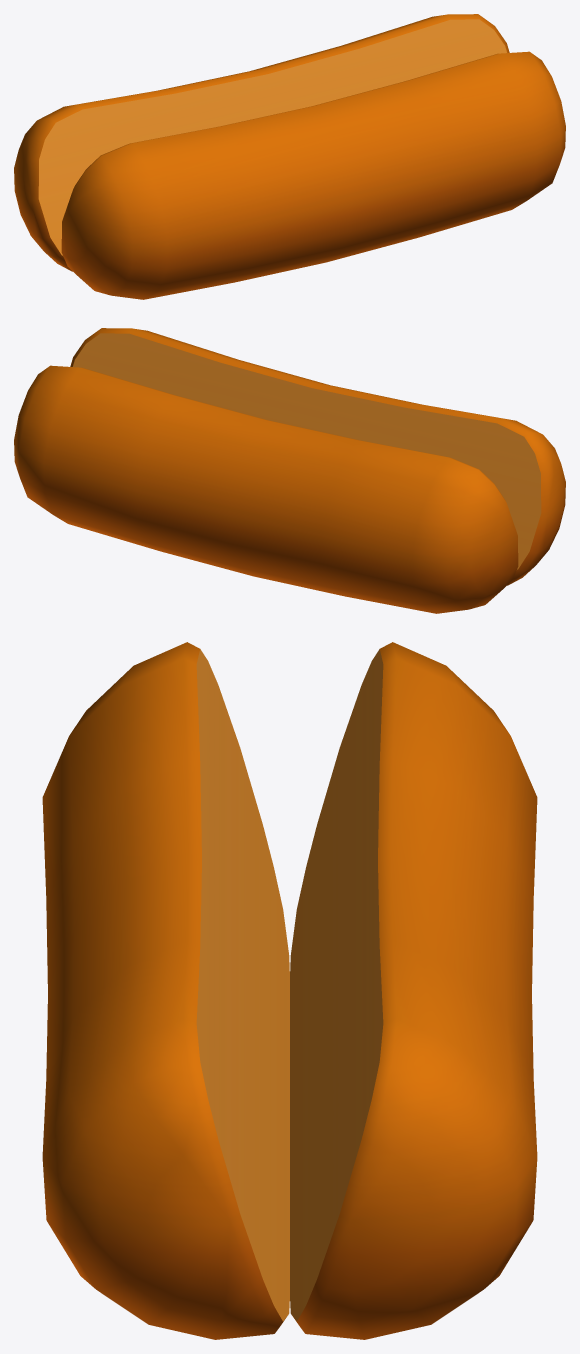
The model's file is HotDog_bun.003.fbx.
3 views of the same model, one above another, from view 1: azimuth 30°, elevation 25°; view 2: azimuth 150°, elevation 25°; view 3: azimuth 270°, elevation 25° (orthographic). The views are drawn at different scales.
Parts seen in each view (by area): view 1: HotDog_bun.003; view 2: HotDog_bun.003; view 3: HotDog_bun.003.
Boxes of the visible parts, x1,y1,x2,y2 form: HotDog_bun.003: [14, 14, 565, 299]; HotDog_bun.003: [14, 328, 565, 613]; HotDog_bun.003: [42, 642, 537, 1339].
Bounding box in the file's own units: 153 × 67.45 × 49.74.
